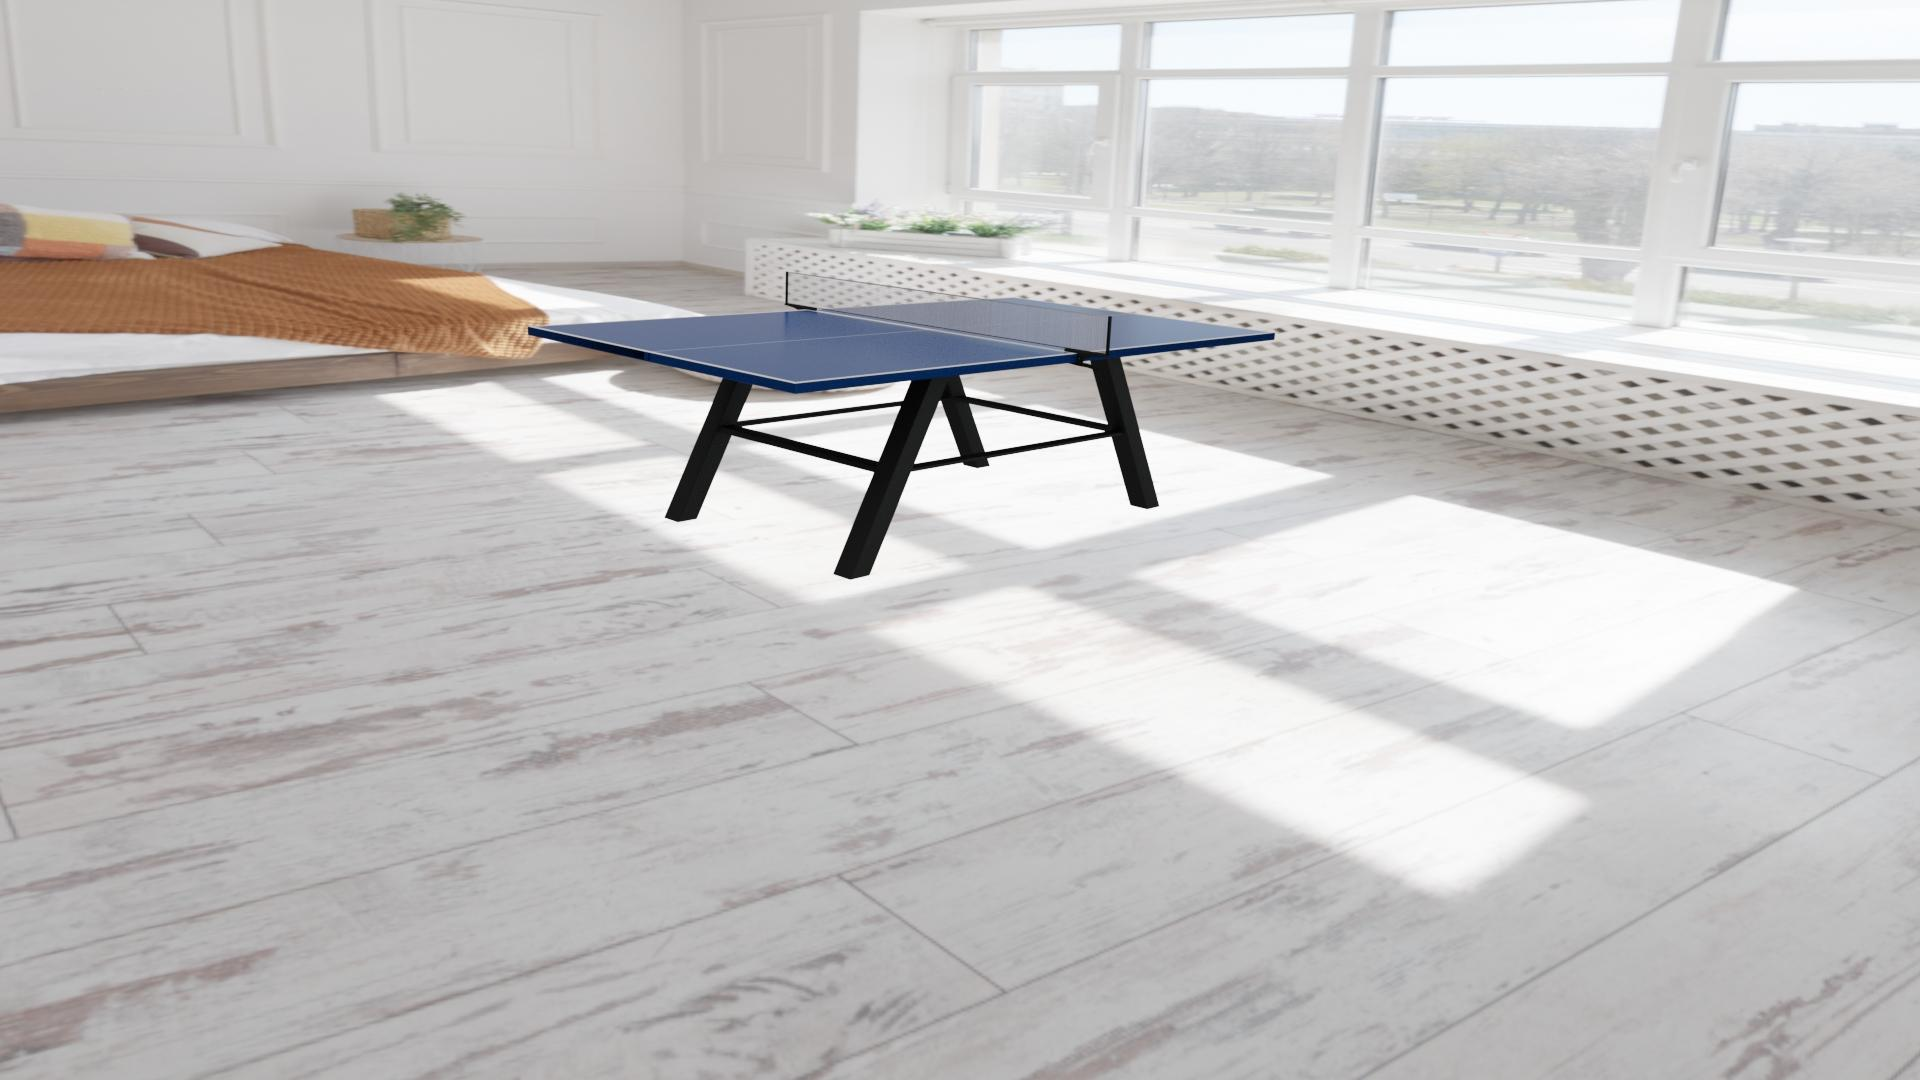table: (534, 298, 1270, 382)
